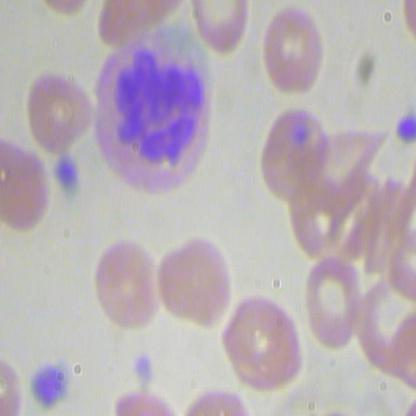Platelets: (28, 356, 72, 409), (51, 151, 81, 198), (130, 354, 155, 389), (396, 105, 415, 146)
RBC: (218, 290, 305, 392), (88, 234, 163, 335), (157, 234, 232, 335), (258, 104, 333, 205), (258, 1, 333, 101), (25, 68, 98, 152), (302, 251, 363, 349), (1, 140, 47, 238), (190, 1, 250, 59)
WBC: (91, 23, 221, 199)
